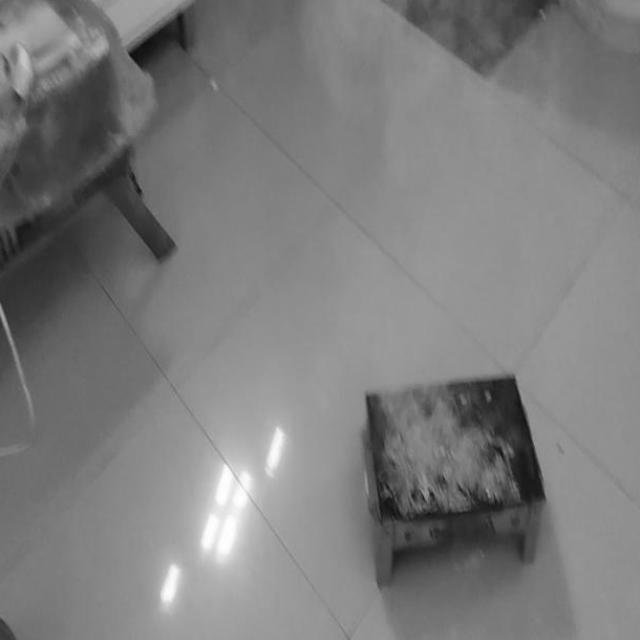fire: (298, 0, 533, 106), (376, 343, 443, 454)
